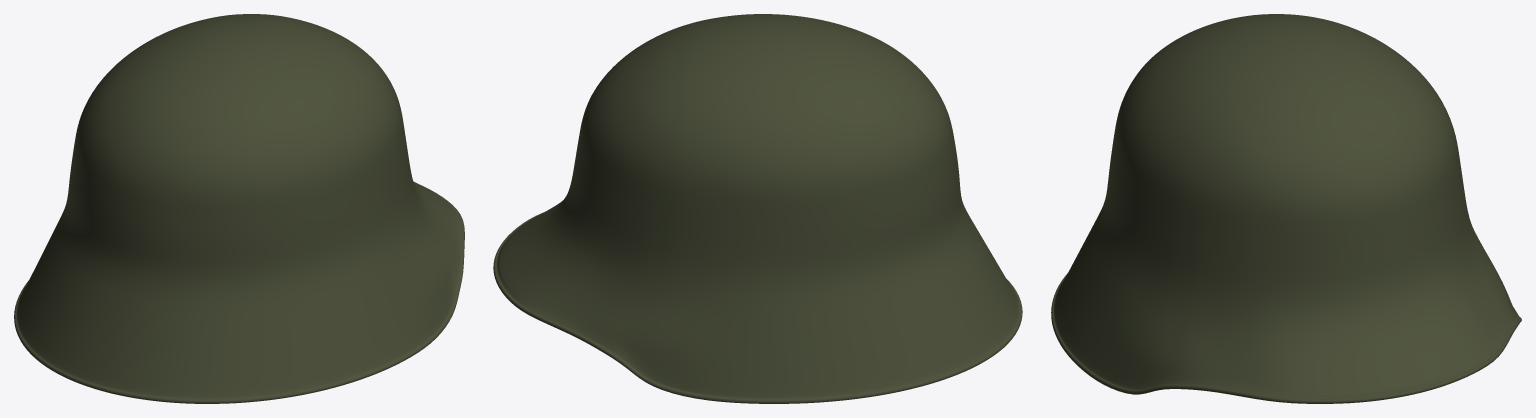
Rendered from casco.obj.
The picture shows the model from 3 angles, left to right: view 1: azimuth 30°, elevation 25°; view 2: azimuth 150°, elevation 25°; view 3: azimuth 270°, elevation 25°; orthographic projection. The views are drawn at different scales.
Parts seen in each view (by area): view 1: casco; view 2: casco; view 3: casco.
Boxes of the visible parts, box(x1,y1,x2,y2) form: casco: box(14, 14, 464, 403); casco: box(493, 14, 1022, 403); casco: box(1051, 14, 1521, 403).
Bounding box in the file's own units: 2.61 × 1.55 × 2.29.
Materials: 1 (1 with a texture image).
